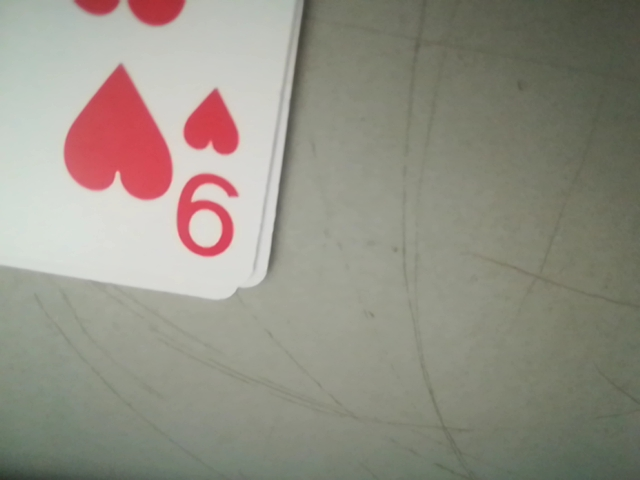hx 9: (171, 81, 254, 259)
